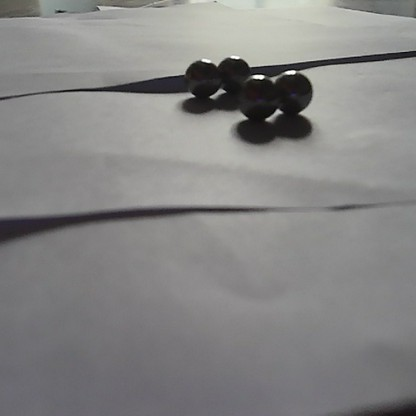ironball: (237, 75, 276, 119), (273, 69, 311, 113), (184, 59, 218, 99), (218, 54, 251, 95)
